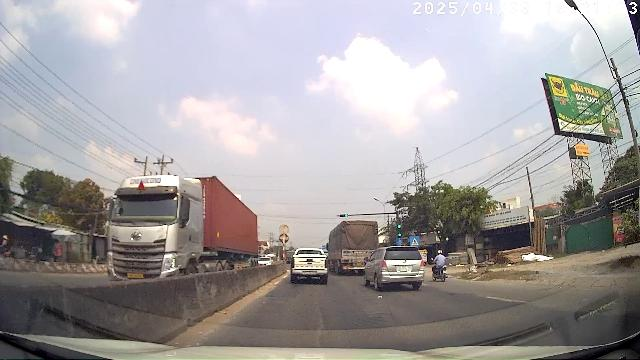423a-duong-nguoi-di-bo-sang-ngang-1: (410, 236, 419, 246)
